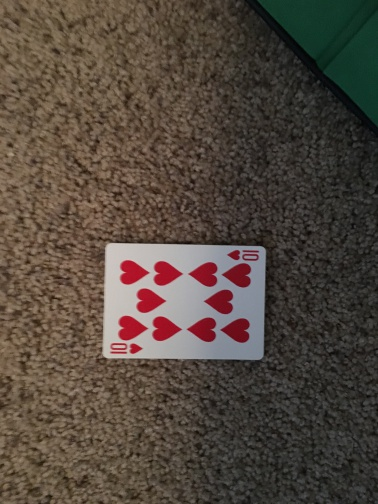ten: (101, 241, 266, 361)
